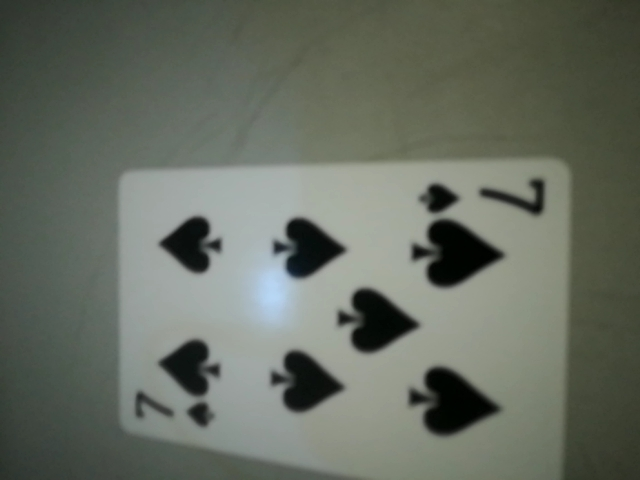ht 7: (411, 171, 567, 237)
